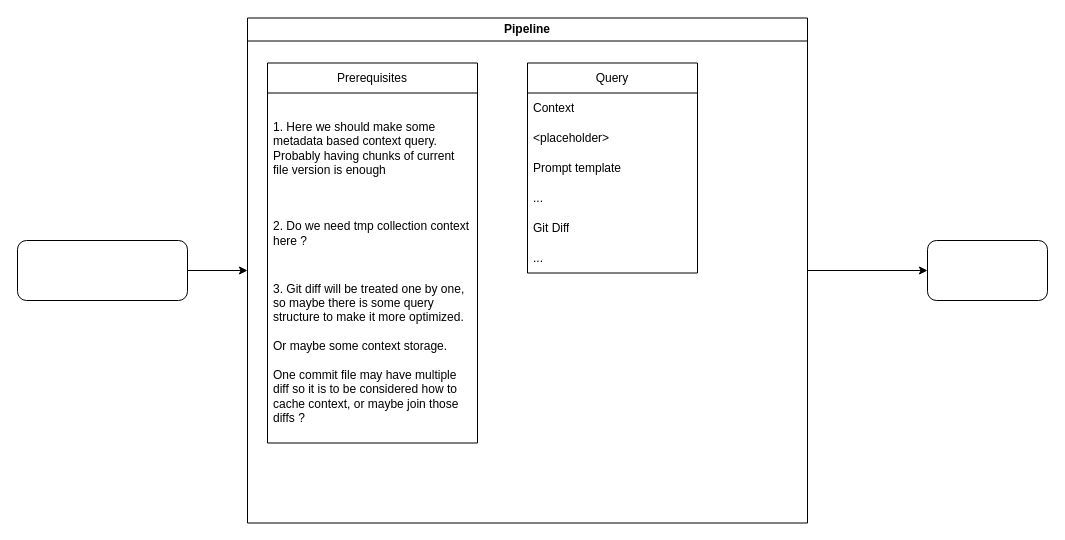
Some shapes in this 1065 by 540 pixel diagram are drawn without their labels. The shapes that lost their labels are listed below. From the top down, each one's centre as x and y in pixels, then its label:
point (102, 270): ragCodeReviewManager.py
point (987, 270): LLM
